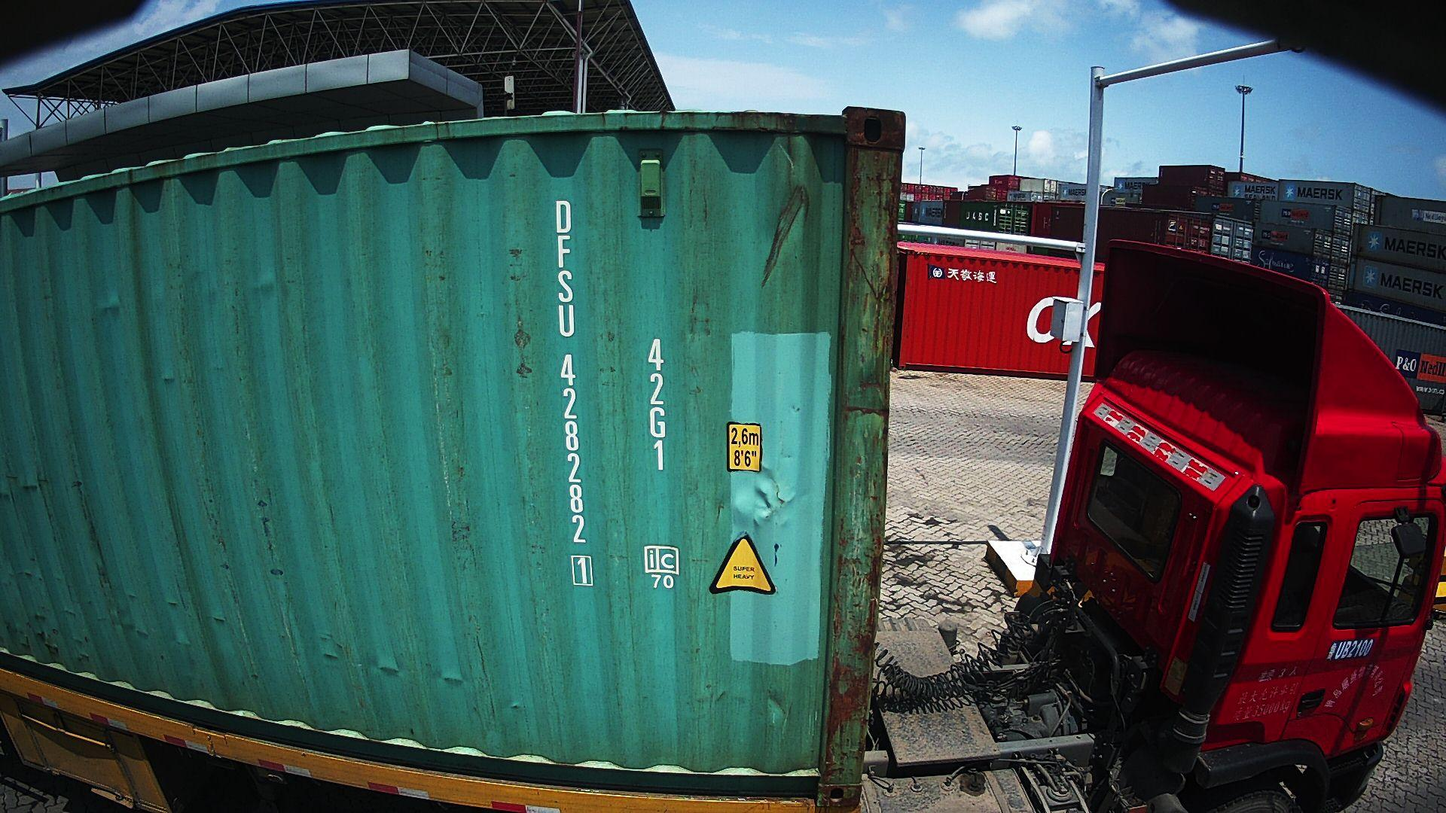container-numbers: (550, 195, 596, 589), (642, 334, 672, 475)
